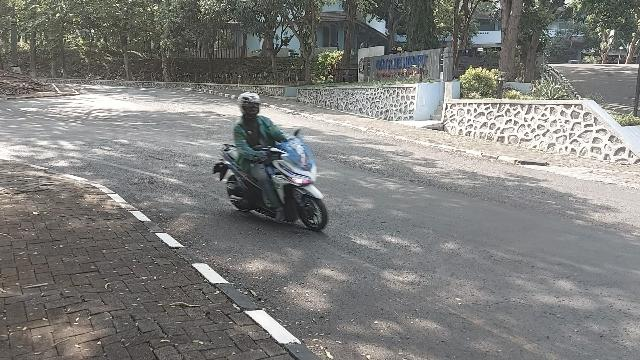helm: (239, 93, 261, 117)
motor: (214, 129, 329, 231)
